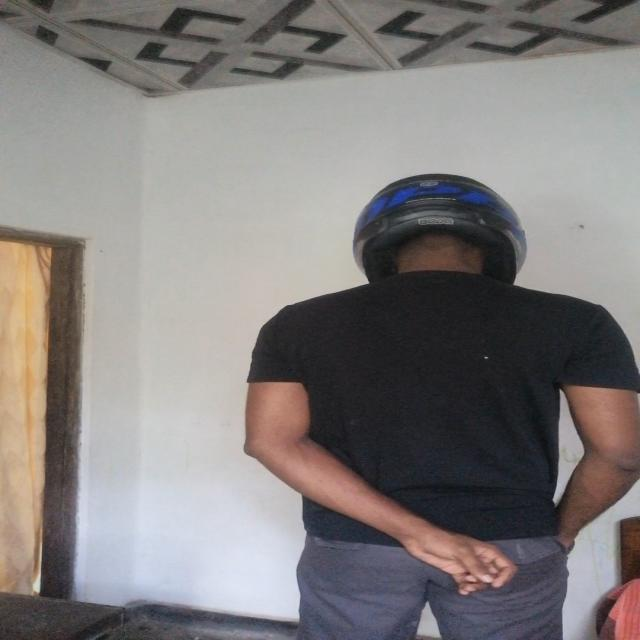Helmet_Wearer: (326, 162, 563, 311)
Person: (244, 162, 640, 640)
